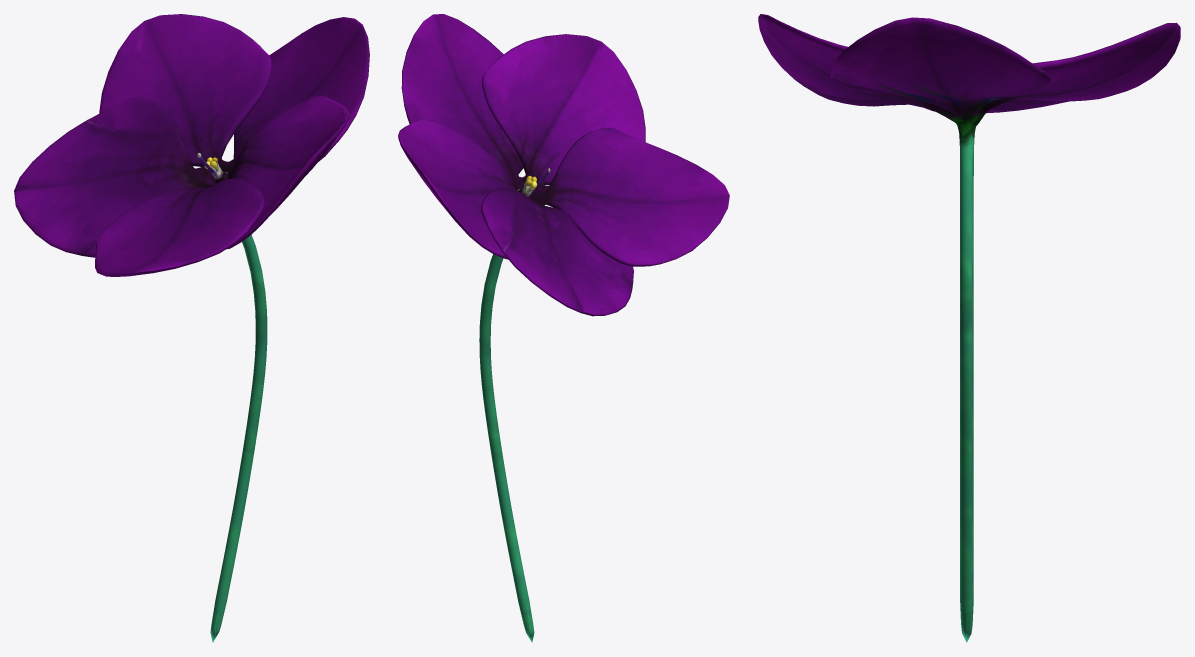
File: violet.fbx
3 views of the same model, side by side, from view 1: azimuth 30°, elevation 25°; view 2: azimuth 150°, elevation 25°; view 3: azimuth 270°, elevation 25° (orthographic). The views are drawn at different scales.
Visible parts, largest first — view 1: polySurface1; view 2: polySurface1; view 3: polySurface1.
Boxes of the visible parts, x1,y1,x2,y2 form: polySurface1: (14, 14, 369, 642); polySurface1: (398, 14, 729, 642); polySurface1: (758, 14, 1180, 642).
Size of the model in its own units: 1.52 by 3.19 by 1.75.
